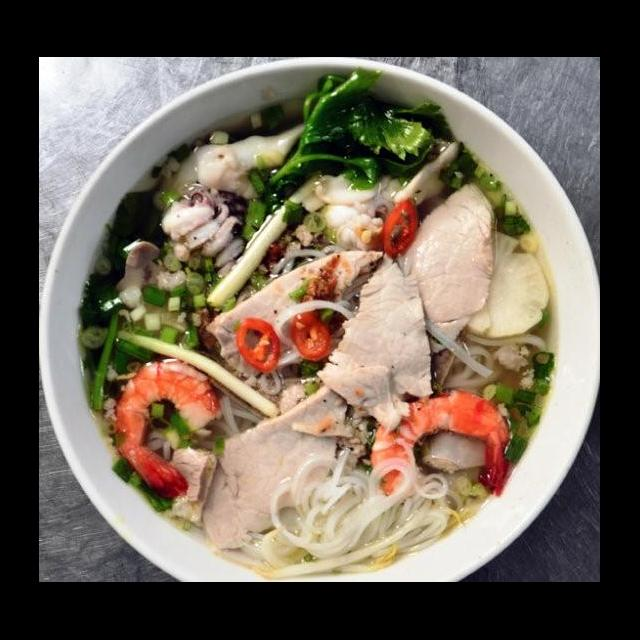banh hu tieu: (190, 372, 357, 556)
hu tieu: (43, 98, 600, 581), (228, 432, 466, 582), (418, 314, 552, 399)
muc: (152, 114, 316, 214), (156, 184, 258, 270)
thit heo: (202, 247, 386, 386), (312, 250, 440, 434), (388, 178, 501, 358)
tom: (366, 386, 520, 506), (106, 352, 226, 504)
